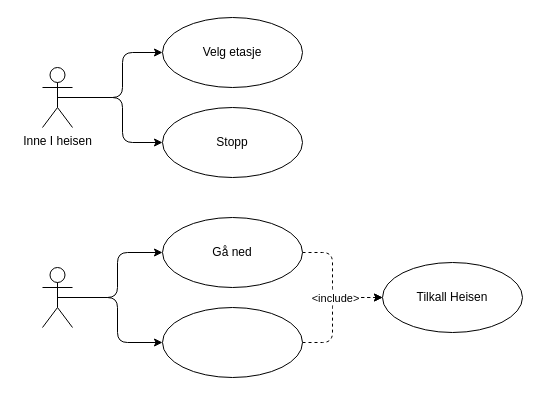
Image size: 540x395. Some labels were removed from this diagram. Here are the shapes that lost their labels. From the top down, the centre of each, then its label:
At (x=57, y=297): "Utenfor Heisen".
At (x=232, y=342): "Gå opp".
